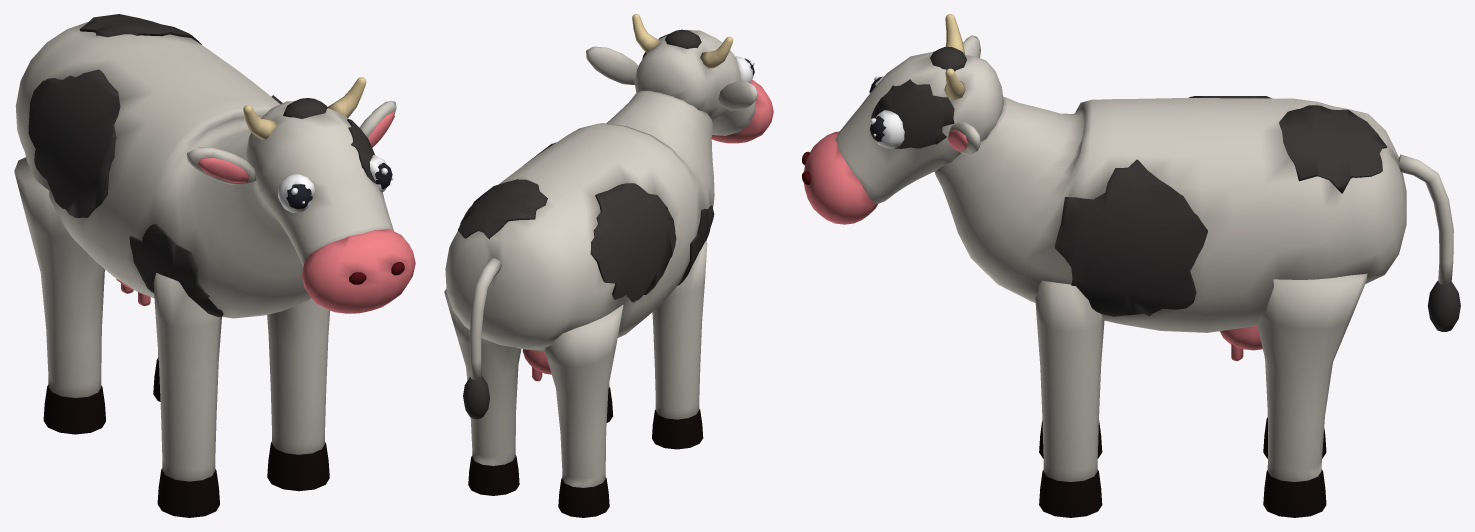
File: Cow.fbx
3 views of the same model, side by side, from view 1: azimuth 30°, elevation 25°; view 2: azimuth 150°, elevation 25°; view 3: azimuth 270°, elevation 25° (orthographic). The views are drawn at different scales.
Visible parts, largest first — view 1: Cow, Head; view 2: Cow, Head, Tail; view 3: Cow, Head, Tail.
Part boxes in pixels (x1=…): Cow: x1=14, y1=14, x2=330, y2=517; Head: x1=187, y1=77, x2=415, y2=313; Cow: x1=444, y1=90, x2=714, y2=517; Head: x1=586, y1=14, x2=773, y2=143; Tail: x1=463, y1=258, x2=501, y2=418; Cow: x1=934, y1=96, x2=1406, y2=517; Head: x1=802, y1=14, x2=1003, y2=224; Tail: x1=1398, y1=154, x2=1460, y2=331.
Size of the model in its own units: 0.5707 by 1.16 by 1.59.
